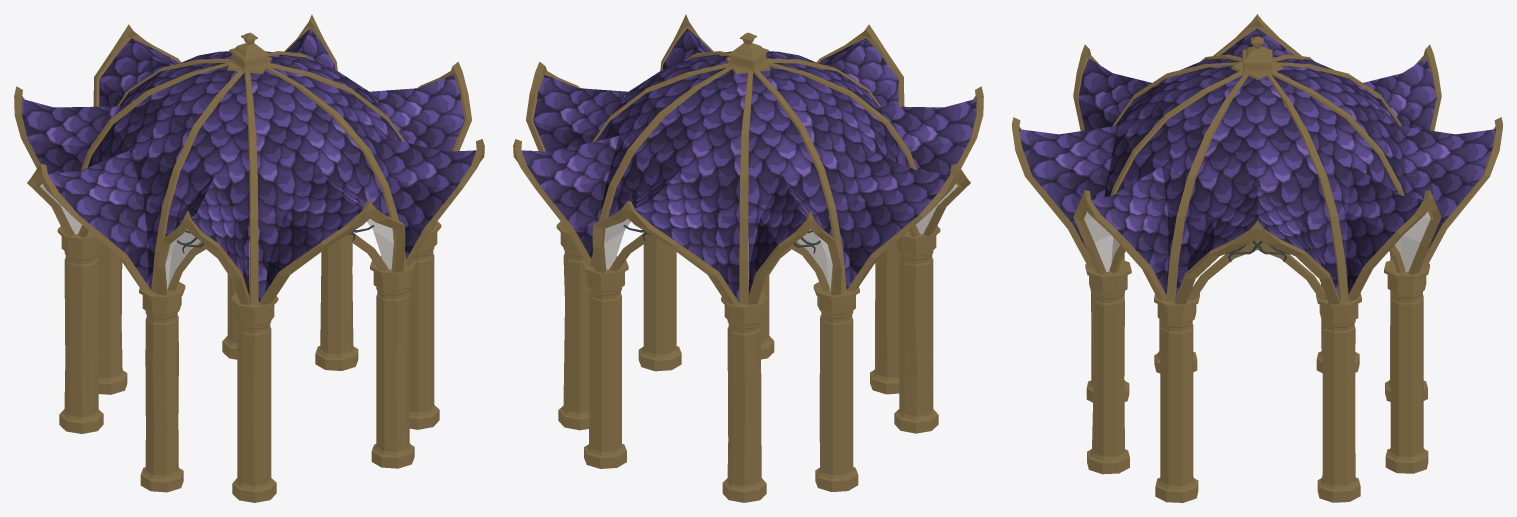
The model's file is elven_SM_Bld_Gazebo_01.gltf.
3 views of the same model, side by side, from view 1: azimuth 30°, elevation 25°; view 2: azimuth 150°, elevation 25°; view 3: azimuth 270°, elevation 25° (orthographic).
Visible parts, largest first — view 1: SM_Bld_Gazebo_01; view 2: SM_Bld_Gazebo_01; view 3: SM_Bld_Gazebo_01.
Part boxes in pixels (x1=…): SM_Bld_Gazebo_01: x1=14, y1=14, x2=484, y2=502; SM_Bld_Gazebo_01: x1=513, y1=14, x2=983, y2=502; SM_Bld_Gazebo_01: x1=1012, y1=14, x2=1502, y2=502.
Size of the model in its own units: 5.06 by 4.48 by 5.06.
2 materials, 2 textured.
